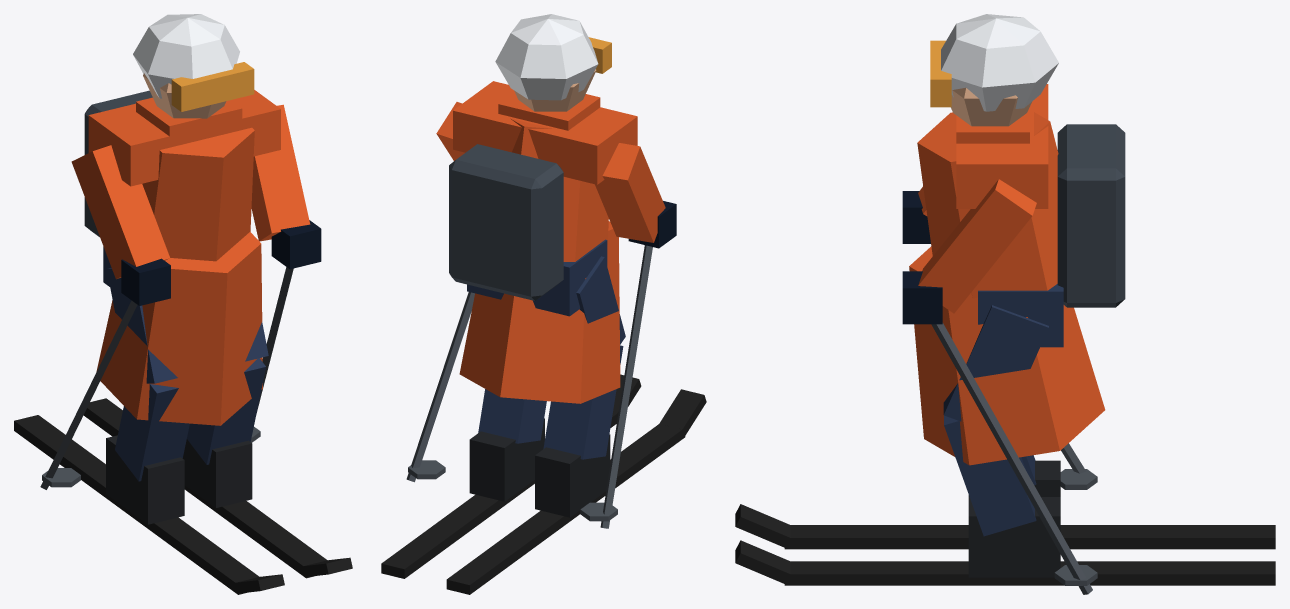
The model's file is skier-coat.glb.
3 renders of one model, left to right at view 1: azimuth 30°, elevation 25°; view 2: azimuth 150°, elevation 25°; view 3: azimuth 270°, elevation 25°, orthographic. The views are drawn at different scales.
Visible parts, largest first — view 1: skier-coat; view 2: skier-coat; view 3: skier-coat.
Part boxes in pixels (left/top/right/bottom): skier-coat: left=14, top=14, right=352, bottom=594; skier-coat: left=381, top=14, right=706, bottom=594; skier-coat: left=735, top=14, right=1275, bottom=594.
Bounding box in the file's own units: 0.8681 × 1.95 × 1.76.
